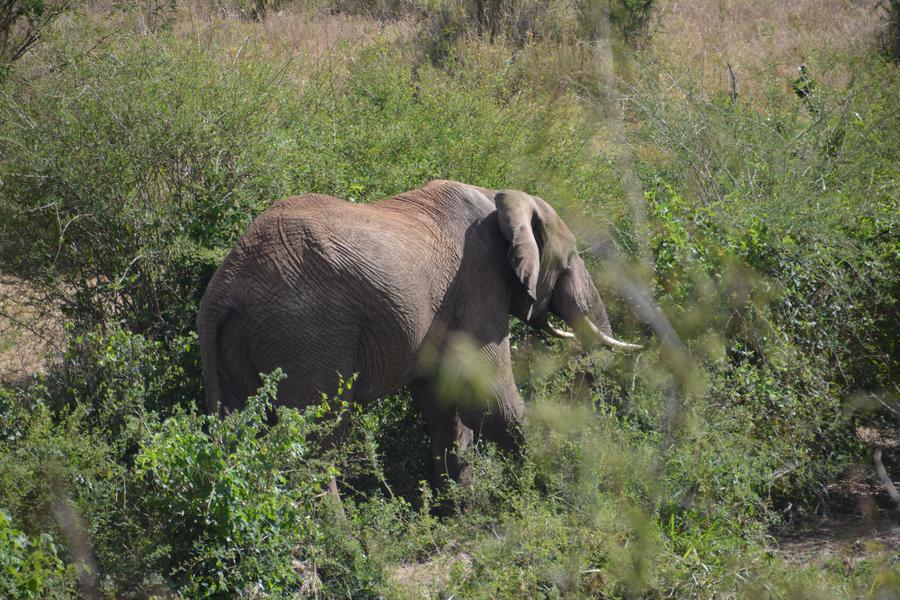elephant: (194, 184, 629, 470)
